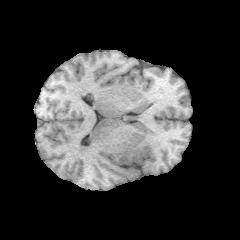glioma: (103, 148, 147, 180)
